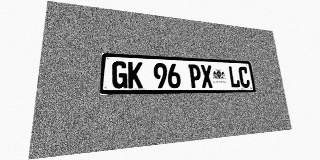6: (167, 63, 181, 88)
9: (154, 63, 168, 88)
C: (238, 66, 250, 88)
G: (112, 61, 128, 88)
K: (128, 62, 143, 88)
L: (228, 66, 241, 88)
P: (188, 64, 202, 88)
X: (200, 65, 213, 88)
